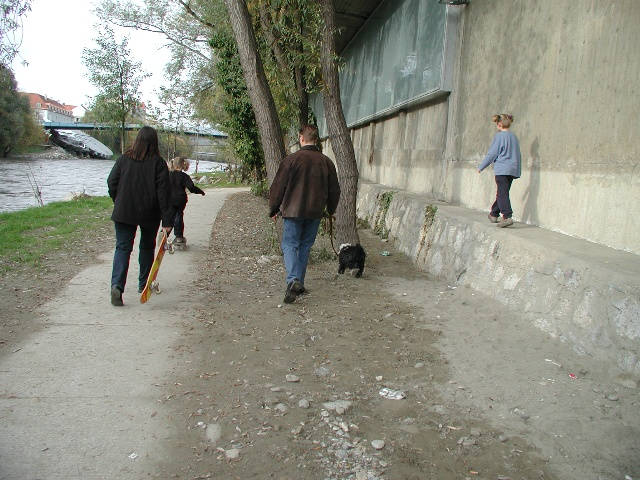person: (274, 121, 337, 307), (105, 119, 167, 303), (481, 108, 522, 225)
